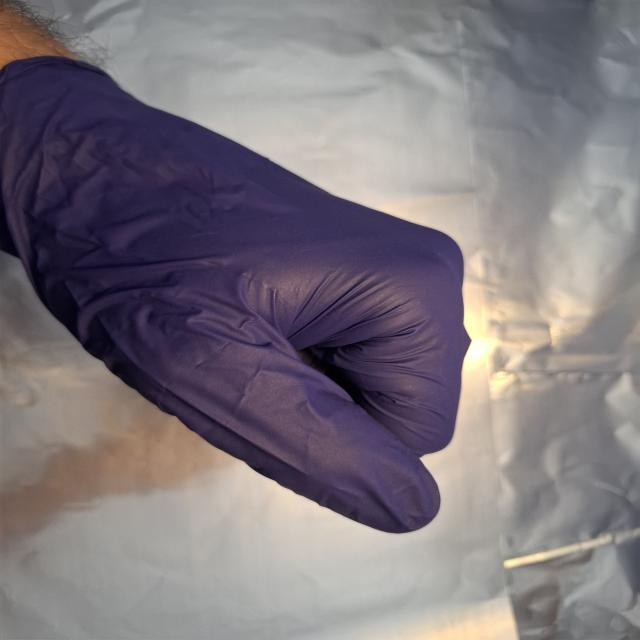glove_on: (0, 54, 476, 540)
